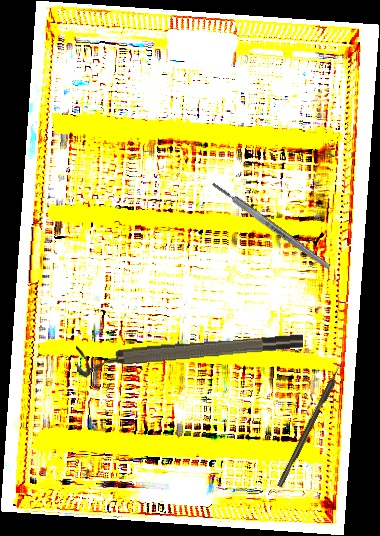Fixation Ring: (75, 329, 305, 378)
Hook Surgical: (276, 361, 345, 489)
Scalpel Handle: (210, 180, 332, 271)
